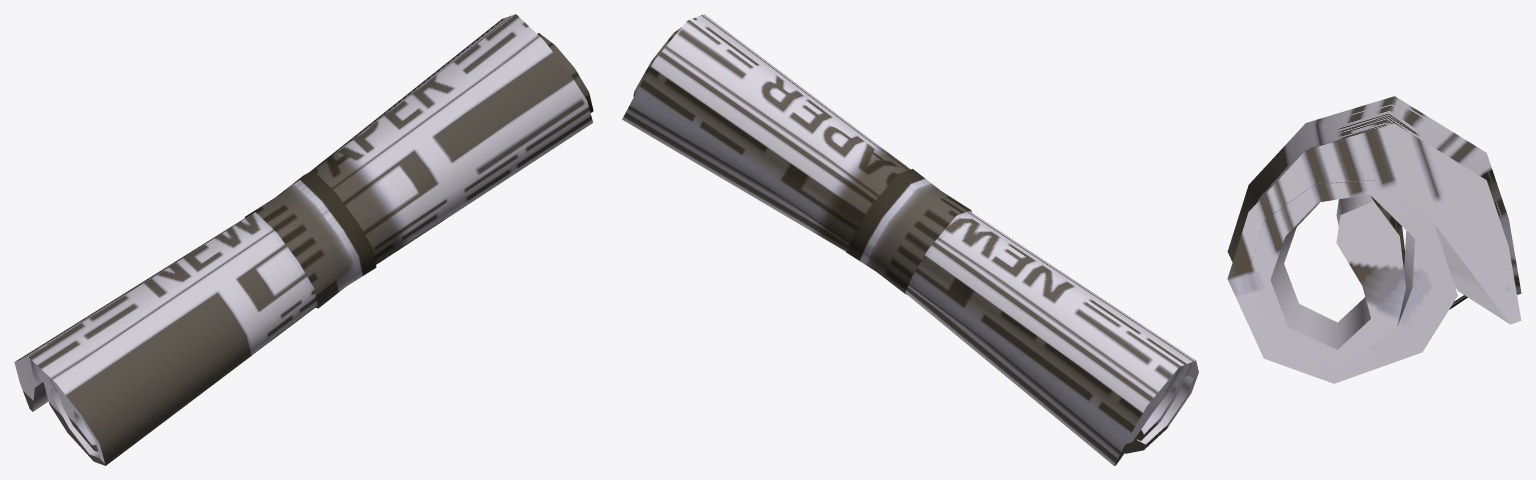
The picture shows the model from 3 angles, left to right: view 1: azimuth 30°, elevation 25°; view 2: azimuth 150°, elevation 25°; view 3: azimuth 270°, elevation 25°; orthographic projection. The views are drawn at different scales.
Parts seen in each view (by area): view 1: newspaper; view 2: newspaper; view 3: newspaper.
Part boxes in pixels (x1,y1,x2,y2): newspaper: [14, 14, 593, 465]; newspaper: [622, 14, 1198, 465]; newspaper: [1227, 96, 1521, 383].
Size of the model in its own units: 191 by 112 by 45.09.
